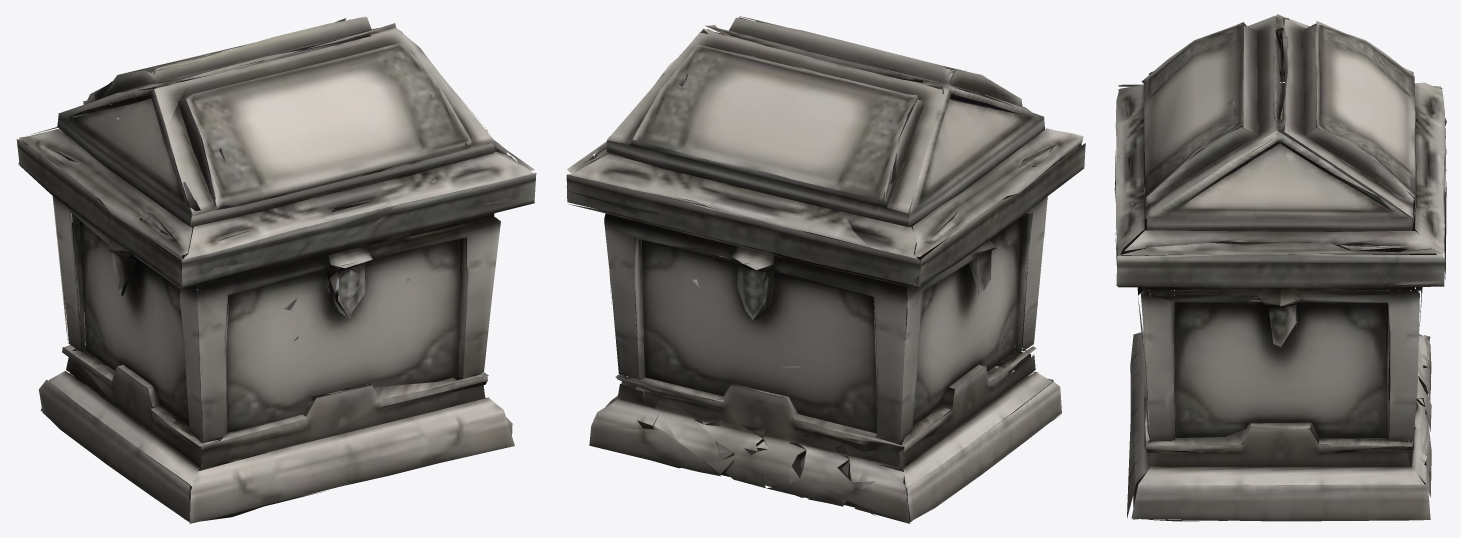
File: lan_hiding_tomb.glb
The picture shows the model from 3 angles, left to right: view 1: azimuth 30°, elevation 25°; view 2: azimuth 150°, elevation 25°; view 3: azimuth 270°, elevation 25°; orthographic projection.
Visible parts, largest first — view 1: MetricPlacement; view 2: MetricPlacement; view 3: MetricPlacement.
Part boxes in pixels (x1,y1,x2,y2): MetricPlacement: (16, 16, 536, 523); MetricPlacement: (566, 16, 1085, 523); MetricPlacement: (1114, 14, 1446, 521).
Bounding box in the file's own units: 1.59 × 1.6 × 1.28.
1 material, 1 textured.
